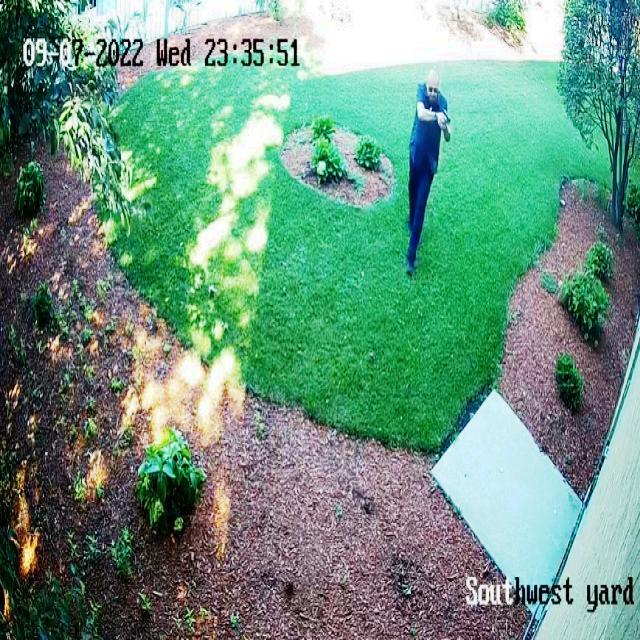Gun: (434, 106, 458, 132)
